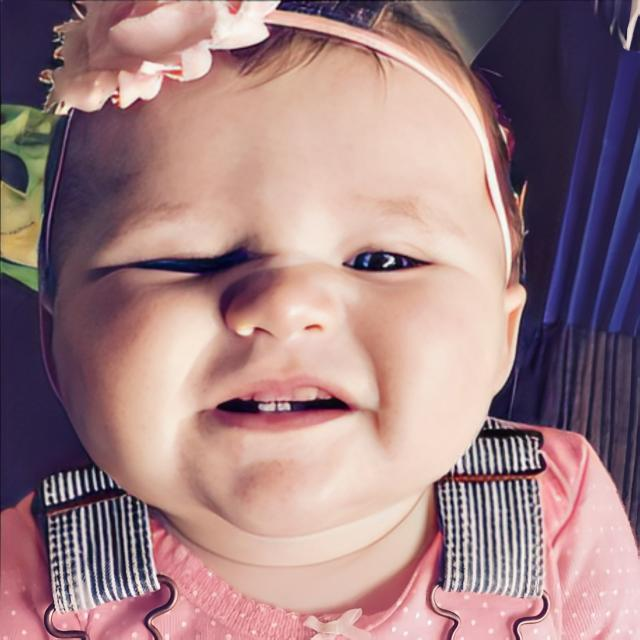disgust: (51, 2, 511, 540)
